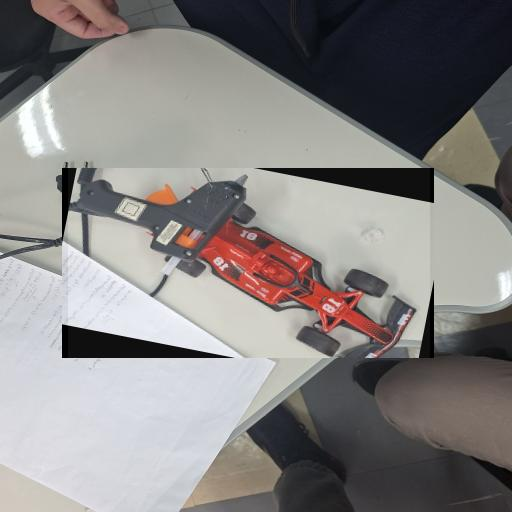carro: (68, 168, 429, 358)
